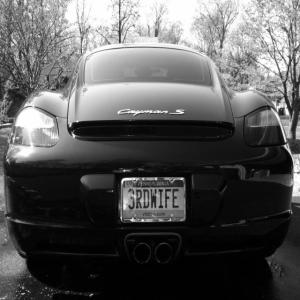Plate: (121, 178, 186, 222)
